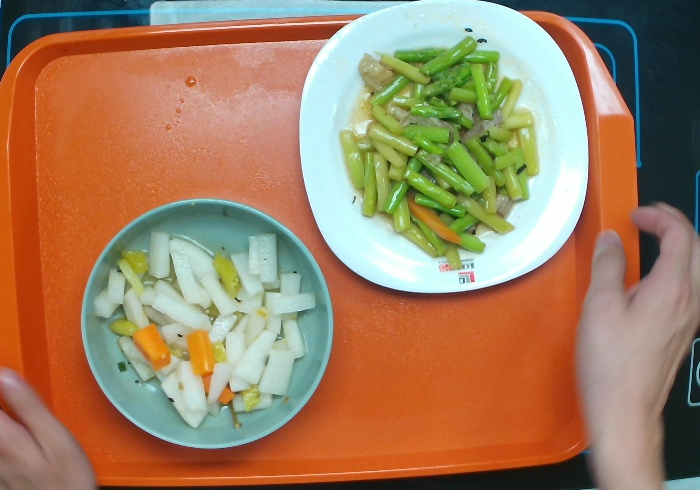ZNLD-Qing_Hua_Yuan_Wan: (73, 193, 337, 456)
ZNLD-Yuan_Jiao_Pan: (294, 1, 593, 301)
